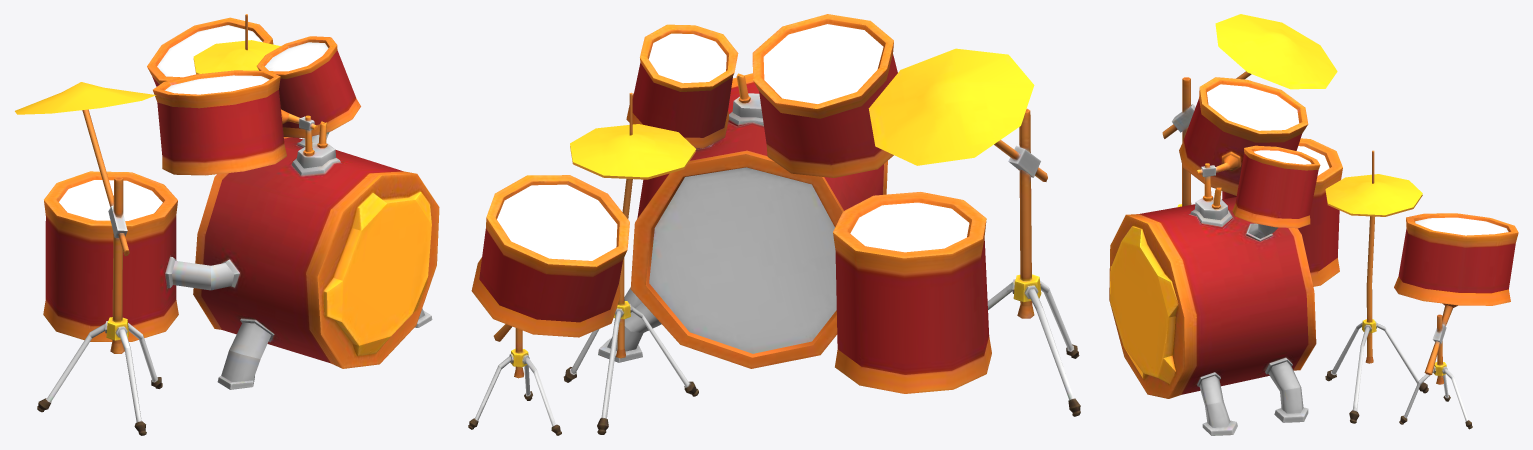
The model's file is obj_drums01_base.gltf.
3 renders of one model, left to right at view 1: azimuth 30°, elevation 25°; view 2: azimuth 150°, elevation 25°; view 3: azimuth 270°, elevation 25°, orthographic. The views are drawn at different scales.
Visible parts, largest first — view 1: obj_drums01_base; view 2: obj_drums01_base; view 3: obj_drums01_base.
Part boxes in pixels (box(x1,y1,x2,y2)): obj_drums01_base: box(15, 14, 439, 435); obj_drums01_base: box(468, 14, 1080, 435); obj_drums01_base: box(1109, 14, 1518, 435).
Size of what is drawn, in the model's own units: 2.24 by 1.61 by 2.22.
Materials: 1 (1 with a texture image).
